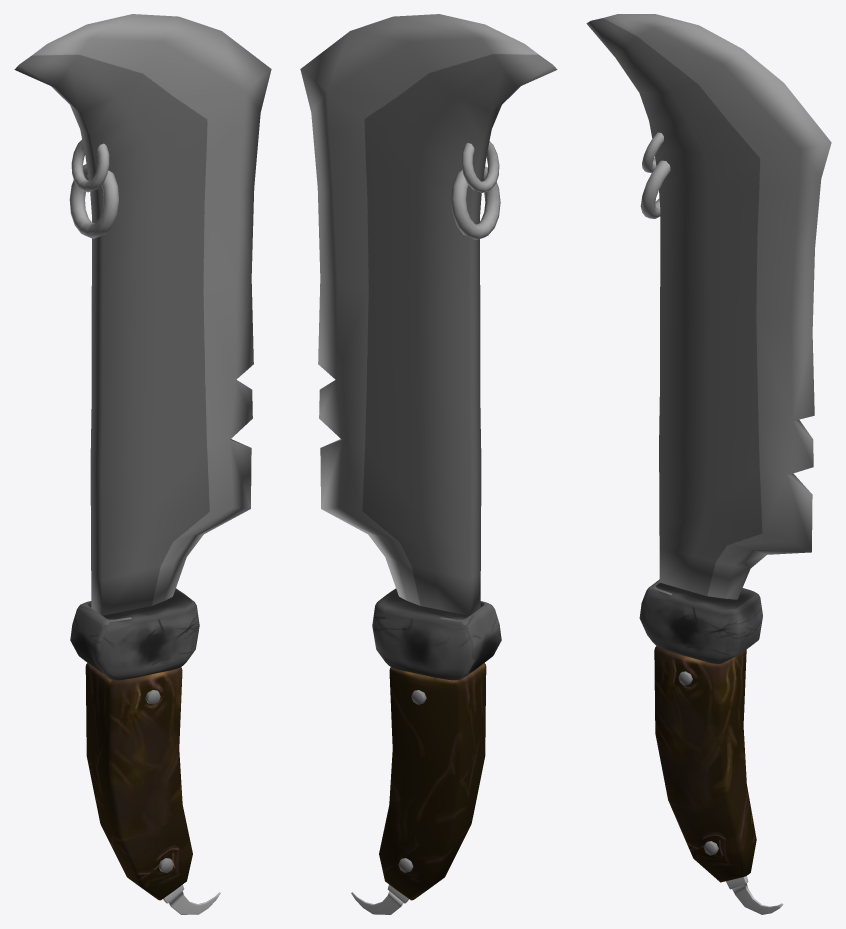
File: kilic_03.fbx
3 views of the same model, side by side, from view 1: azimuth 30°, elevation 25°; view 2: azimuth 150°, elevation 25°; view 3: azimuth 330°, elevation 25° (orthographic). The views are drawn at different scales.
Parts seen in each view (by area): view 1: kilic_03; view 2: kilic_03; view 3: kilic_03.
Part boxes in pixels (x1=…): kilic_03: x1=14, y1=14, x2=271, y2=914; kilic_03: x1=300, y1=14, x2=557, y2=914; kilic_03: x1=586, y1=14, x2=831, y2=914.
Size of the model in its own units: 52.01 by 177 by 13.77.
1 material, 1 textured.
